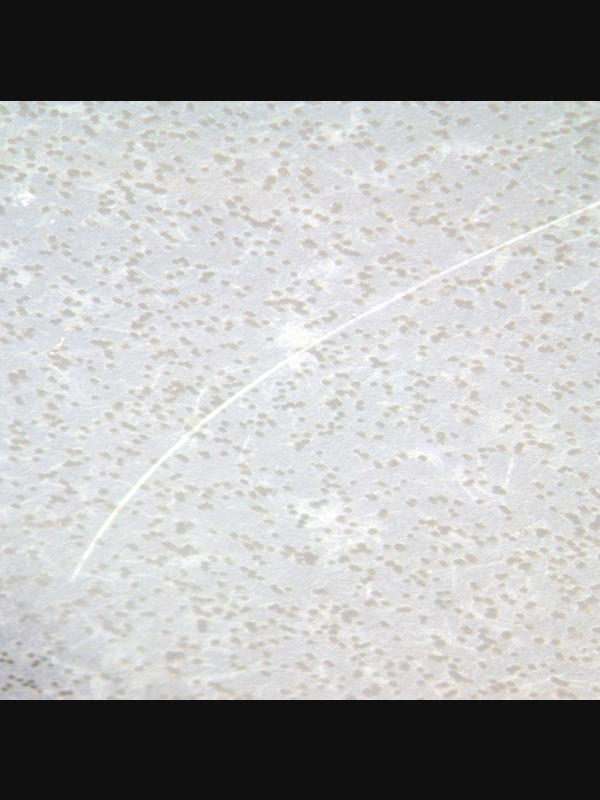microplastic: (0, 102, 600, 699), (65, 186, 600, 584)
